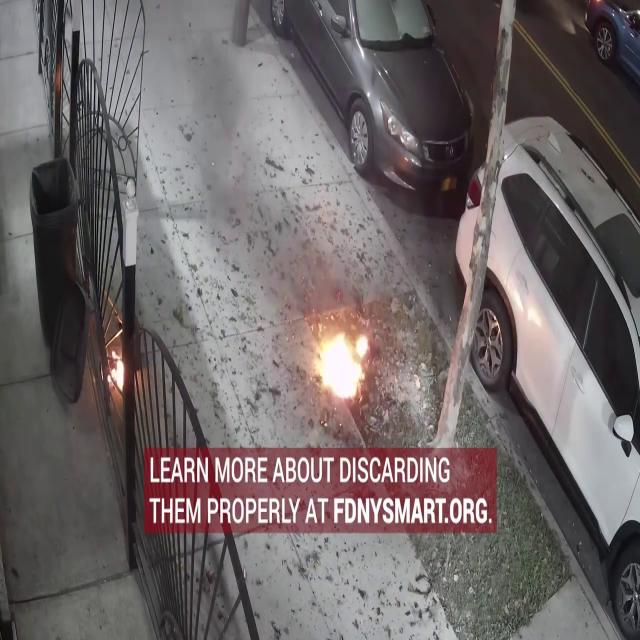Fire: (312, 320, 372, 402), (110, 347, 126, 403)
Smoke: (192, 48, 301, 282)
